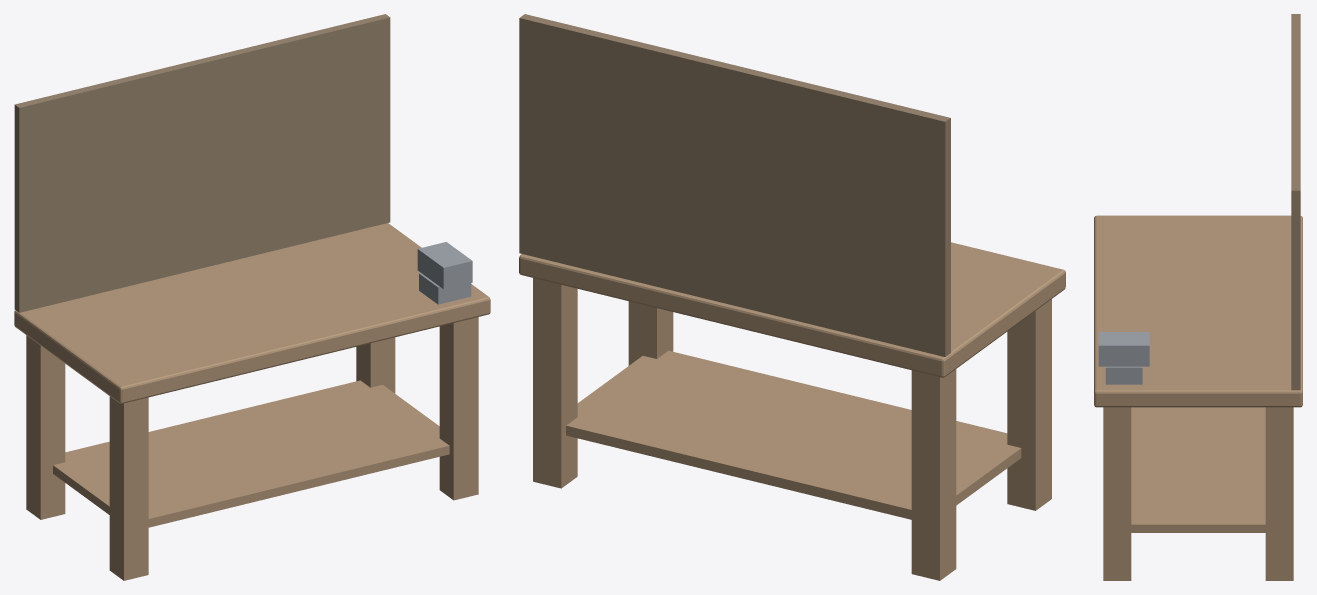
File: Base_CraftingWorkbench.fbx
3 renders of one model, left to right at view 1: azimuth 30°, elevation 25°; view 2: azimuth 150°, elevation 25°; view 3: azimuth 270°, elevation 25°, orthographic. The views are drawn at different scales.
Visible parts, largest first — view 1: Base_CraftingWorkbench; view 2: Base_CraftingWorkbench; view 3: Base_CraftingWorkbench.
Part boxes in pixels (x1,y1,x2,y2): Base_CraftingWorkbench: (14,14,490,580); Base_CraftingWorkbench: (519,14,1065,580); Base_CraftingWorkbench: (1094,14,1302,580).
Size of the model in its own units: 1.8 by 1.88 by 0.9.
